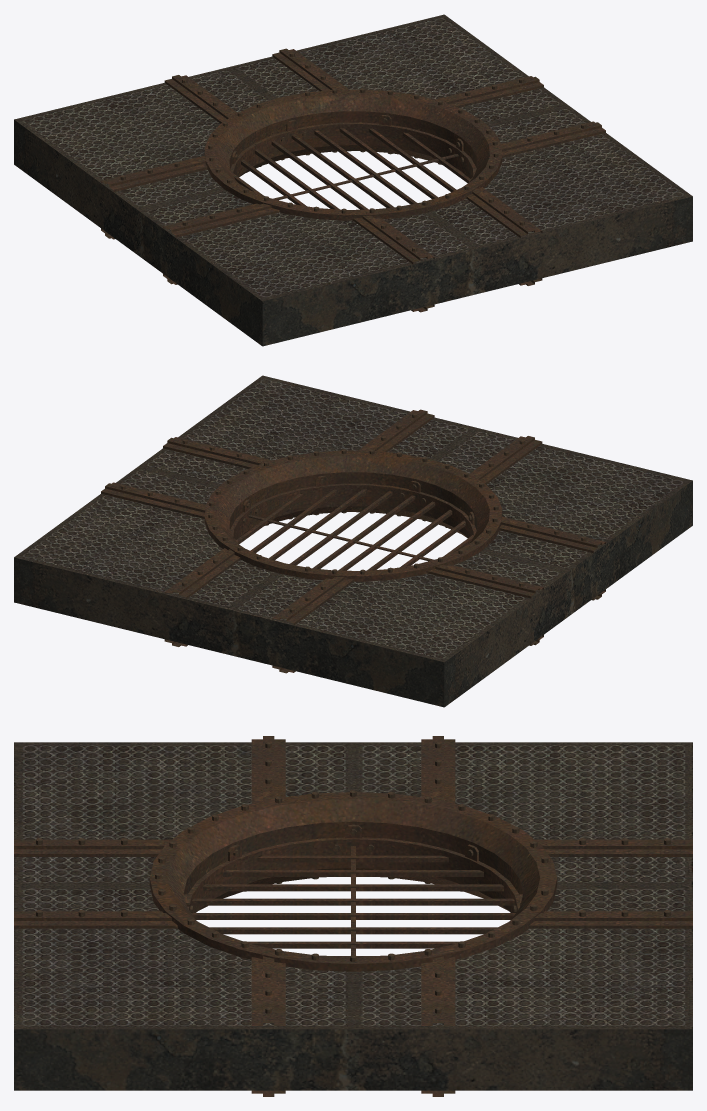
The model's file is floor_ceiling_rtx_3.obj.
3 renders of one model, top to bottom at view 1: azimuth 30°, elevation 25°; view 2: azimuth 150°, elevation 25°; view 3: azimuth 270°, elevation 25°, orthographic. The views are drawn at different scales.
Parts seen in each view (by area): view 1: floor_ceiling_rtx_3, floor_ceiling_rtx_3_bars_child; view 2: floor_ceiling_rtx_3, floor_ceiling_rtx_3_bars_child; view 3: floor_ceiling_rtx_3, floor_ceiling_rtx_3_bars_child.
Boxes of the visible parts, x1,y1,x2,y2 form: floor_ceiling_rtx_3: (14,14,692,346); floor_ceiling_rtx_3_bars_child: (230,115,476,209); floor_ceiling_rtx_3: (14,375,692,707); floor_ceiling_rtx_3_bars_child: (230,476,476,570); floor_ceiling_rtx_3: (14,736,692,1096); floor_ceiling_rtx_3_bars_child: (184,824,522,956).
Bounding box in the file's own units: 4 × 0.5503 × 4.
